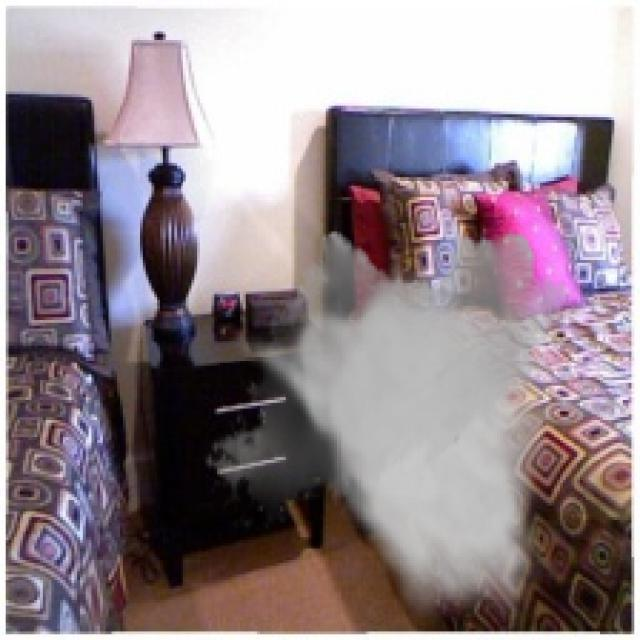Smoke: (203, 219, 583, 632)
